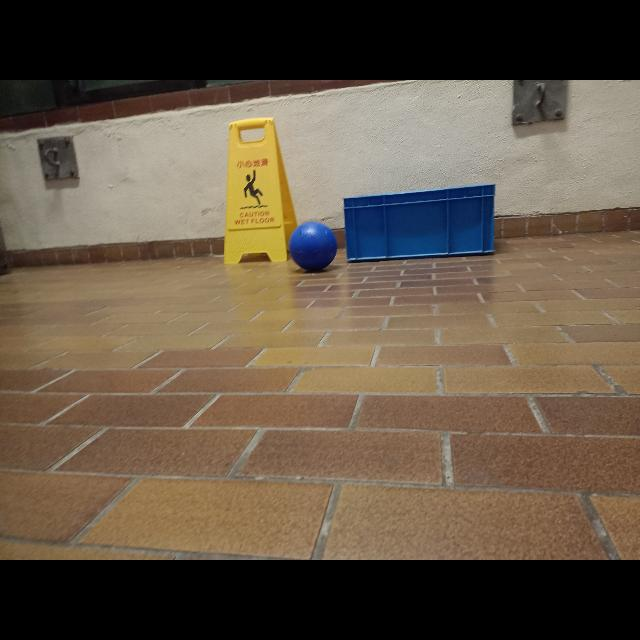B: (289, 222, 337, 272)
